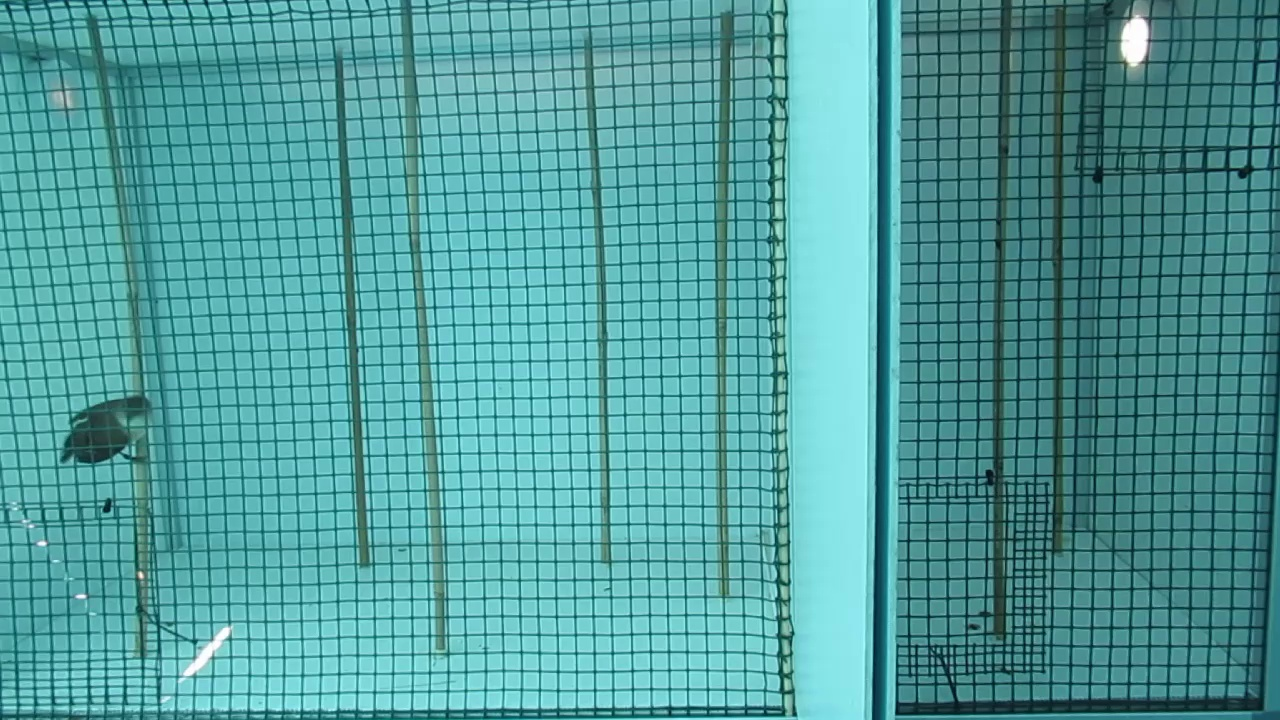bird: (57, 397, 155, 467)
stick: (82, 17, 150, 662), (397, 4, 451, 653), (331, 58, 370, 568), (582, 39, 614, 568), (990, 3, 1015, 642), (714, 12, 740, 599), (1049, 9, 1070, 554)
